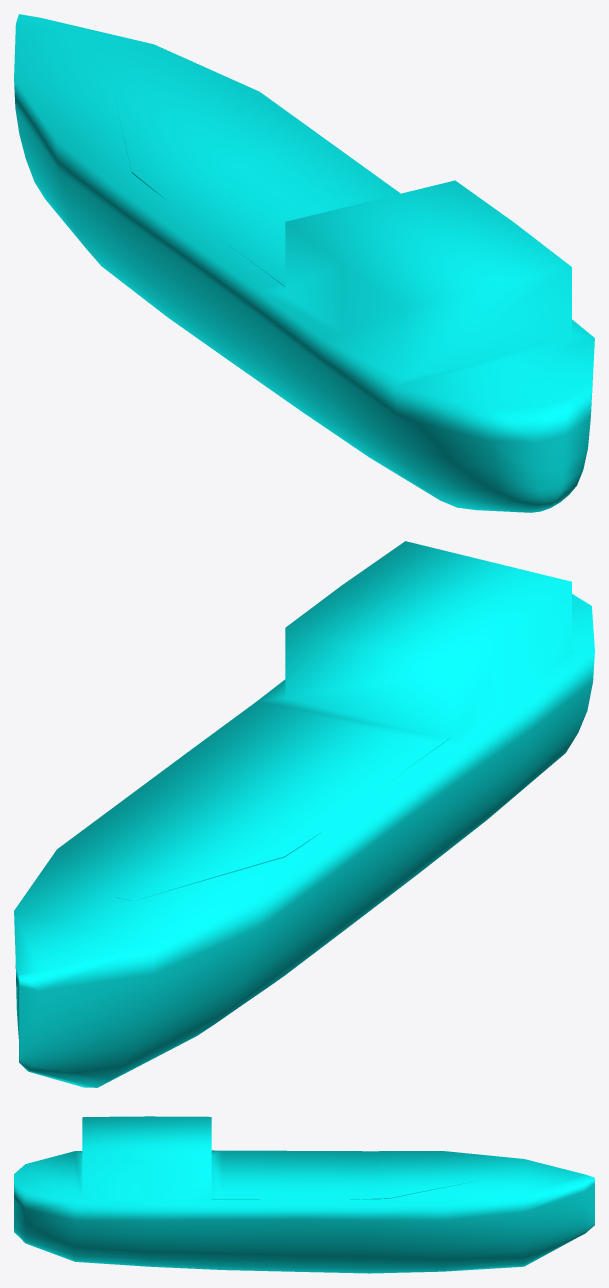
File: boatTeal.gltf
3 renders of one model, top to bottom at view 1: azimuth 30°, elevation 25°; view 2: azimuth 150°, elevation 25°; view 3: azimuth 270°, elevation 25°, orthographic. The views are drawn at different scales.
Visible parts, largest first — view 1: Cylinder; view 2: Cylinder; view 3: Cylinder.
Boxes of the visible parts, <box> form: Cylinder: <box>14,14,594,512</box>; Cylinder: <box>14,541,594,1087</box>; Cylinder: <box>14,1116,594,1273</box>.
Size of the model in its own units: 3.05 by 3.31 by 13.31.
